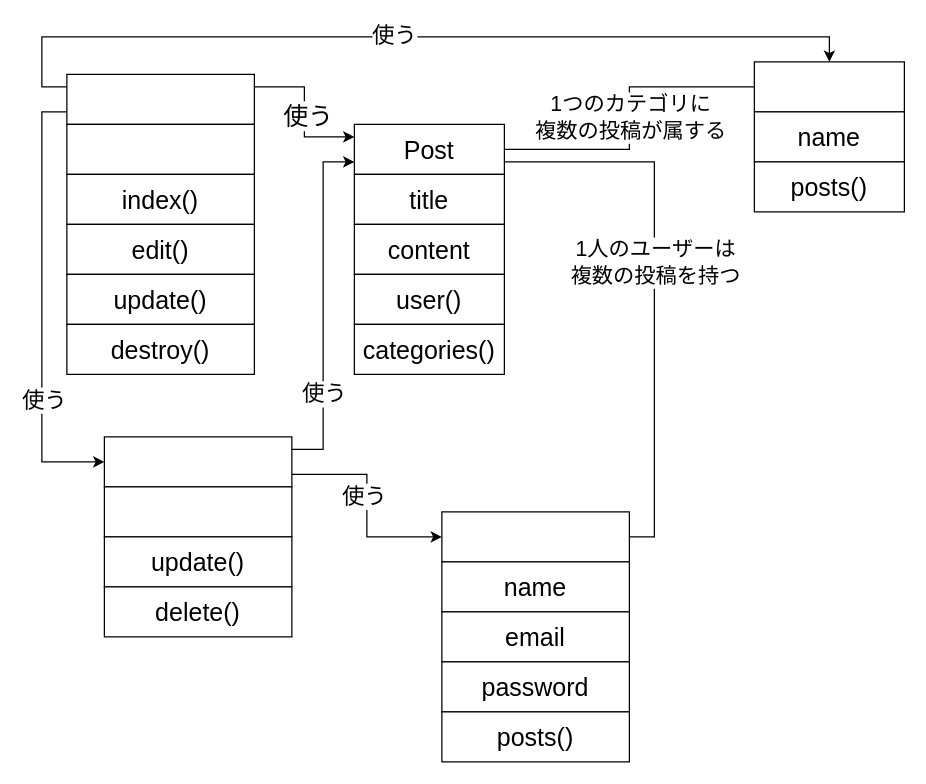
Some shapes in this 926 by 784 pixel diagram are drawn without their labels. Each missing label, with the centre of its shape:
"Category" goes at (x=828, y=86).
"PostController" goes at (x=160, y=98).
"PostPolicy" goes at (x=197, y=461).
"User" goes at (x=535, y=536).
